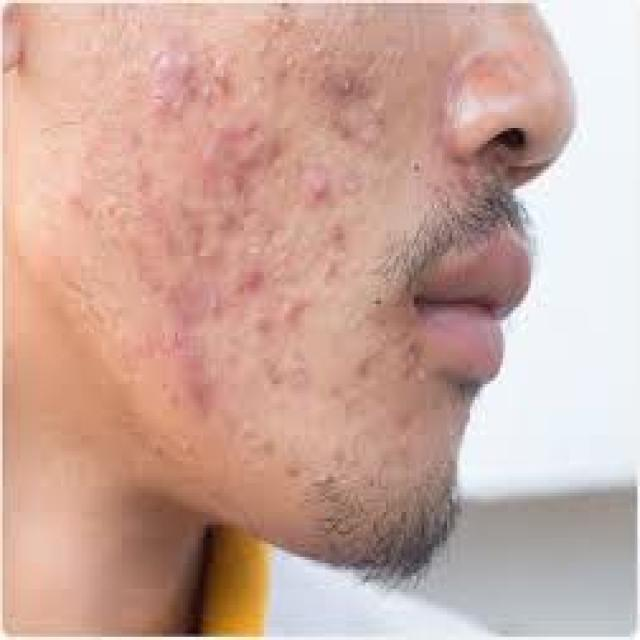Acne: (149, 48, 196, 125), (204, 42, 243, 103), (179, 361, 218, 413), (240, 114, 268, 175), (156, 326, 190, 366), (302, 169, 334, 210), (402, 344, 432, 386), (237, 262, 269, 298), (334, 68, 360, 104), (278, 294, 307, 326), (196, 141, 220, 176), (346, 6, 370, 39), (204, 287, 224, 326), (67, 180, 91, 210), (250, 307, 274, 337), (198, 79, 219, 113), (228, 169, 254, 196), (326, 220, 348, 251), (222, 200, 243, 232), (319, 260, 342, 283)
